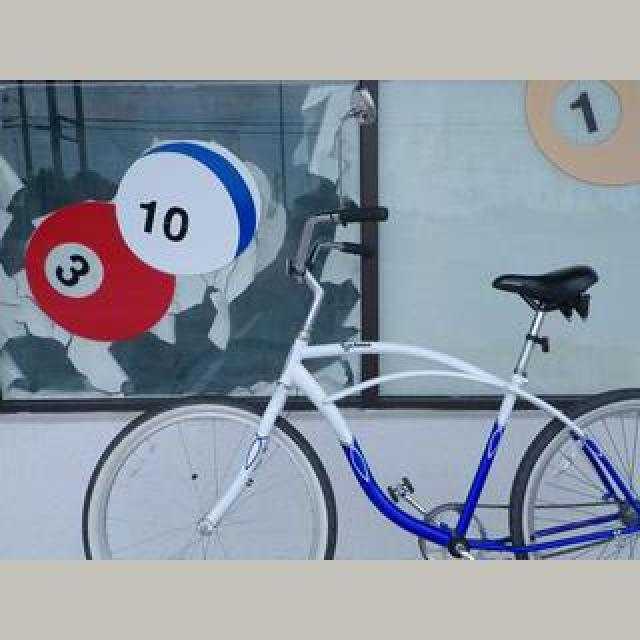Person: (81, 192, 627, 560)
